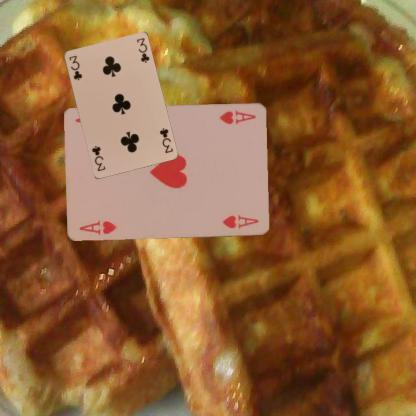3c: (66, 52, 84, 82), (156, 126, 174, 154)
Ah: (76, 218, 118, 236), (217, 108, 257, 126)
